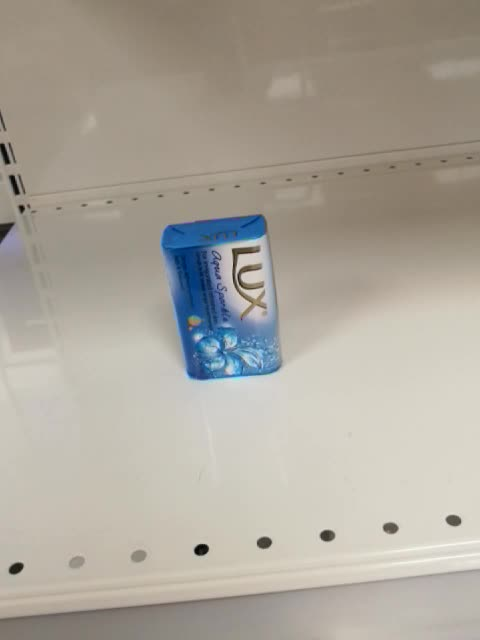soap: (161, 213, 284, 383)
